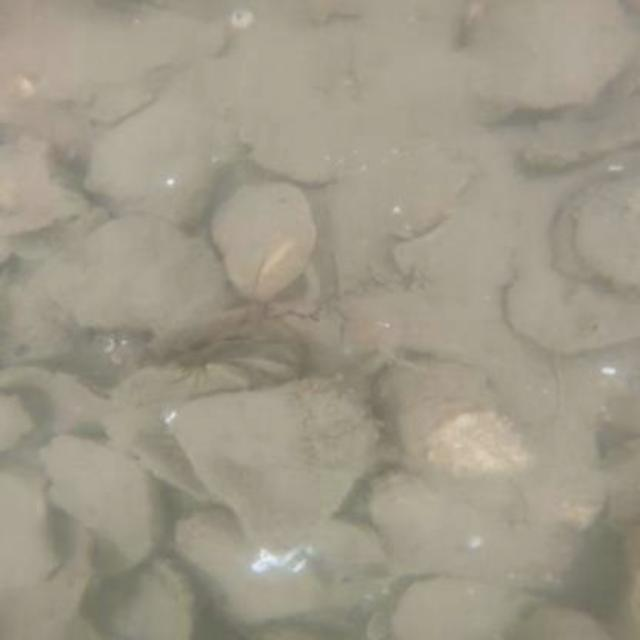Oyster-Closed: (152, 372, 386, 556), (173, 507, 403, 625), (37, 214, 235, 334), (458, 0, 637, 123), (370, 353, 539, 478), (88, 94, 217, 224), (504, 245, 640, 352), (210, 179, 319, 303), (554, 181, 640, 292), (106, 558, 196, 640)
